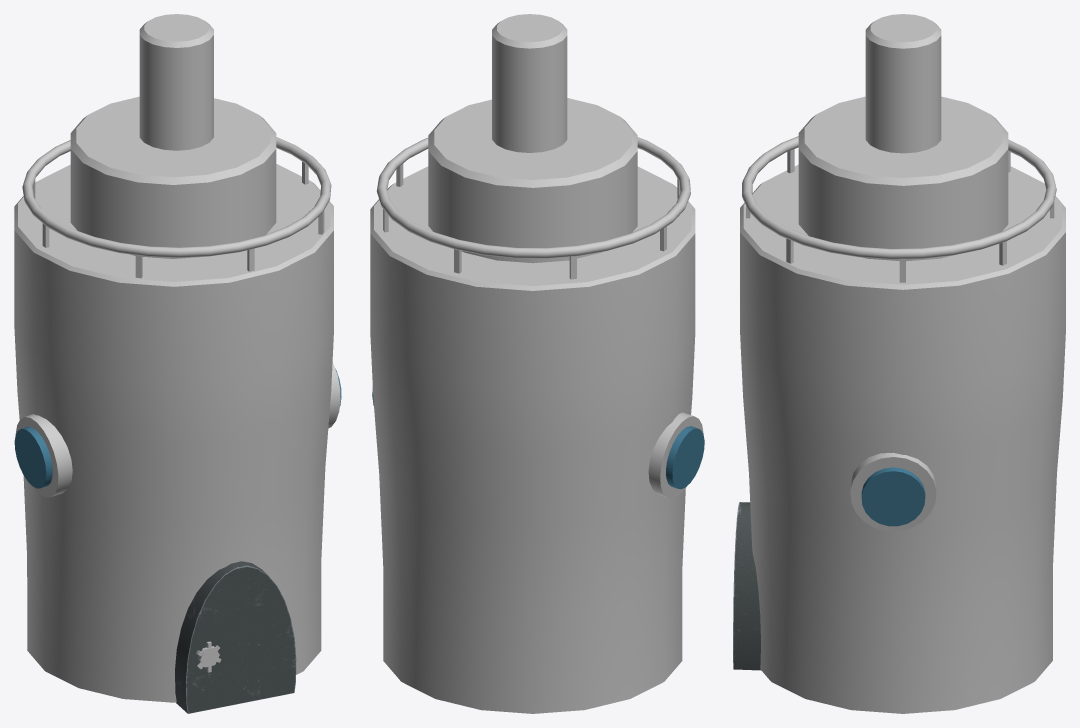
File: Edificio 1 TXT.fbx
The picture shows the model from 3 angles, left to right: view 1: azimuth 30°, elevation 25°; view 2: azimuth 150°, elevation 25°; view 3: azimuth 270°, elevation 25°; orthographic projection.
Visible parts, largest first — view 1: Cylinder010; view 2: Cylinder010; view 3: Cylinder010.
Part boxes in pixels (x1,y1,x2,y2): Cylinder010: (14,14,341,713); Cylinder010: (370,14,704,713); Cylinder010: (733,14,1065,713).
Bounding box in the file's own units: 34.01 × 66.37 × 32.07.
